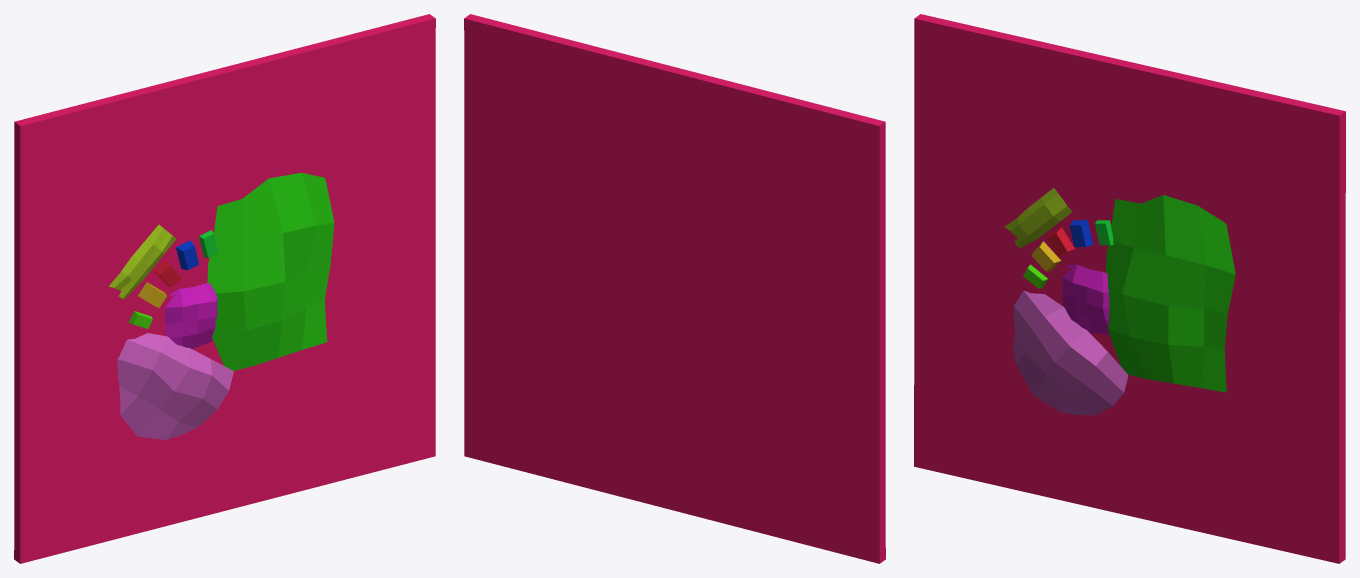
Rendered from phantom_collision_mesh.OBJ.
3 views of the same model, side by side, from view 1: azimuth 30°, elevation 25°; view 2: azimuth 150°, elevation 25°; view 3: azimuth 330°, elevation 25° (orthographic). The views are drawn at different scales.
Visible parts, largest first — view 1: phantom_collision_mesh_Plane.017; view 2: phantom_collision_mesh_Plane.017; view 3: phantom_collision_mesh_Plane.017.
Boxes of the visible parts, x1=… form: phantom_collision_mesh_Plane.017: x1=14, y1=14, x2=435, y2=563; phantom_collision_mesh_Plane.017: x1=464, y1=14, x2=885, y2=563; phantom_collision_mesh_Plane.017: x1=914, y1=14, x2=1345, y2=563.
Bounding box in the file's own units: 0.2282 × 0.233 × 0.0152.
